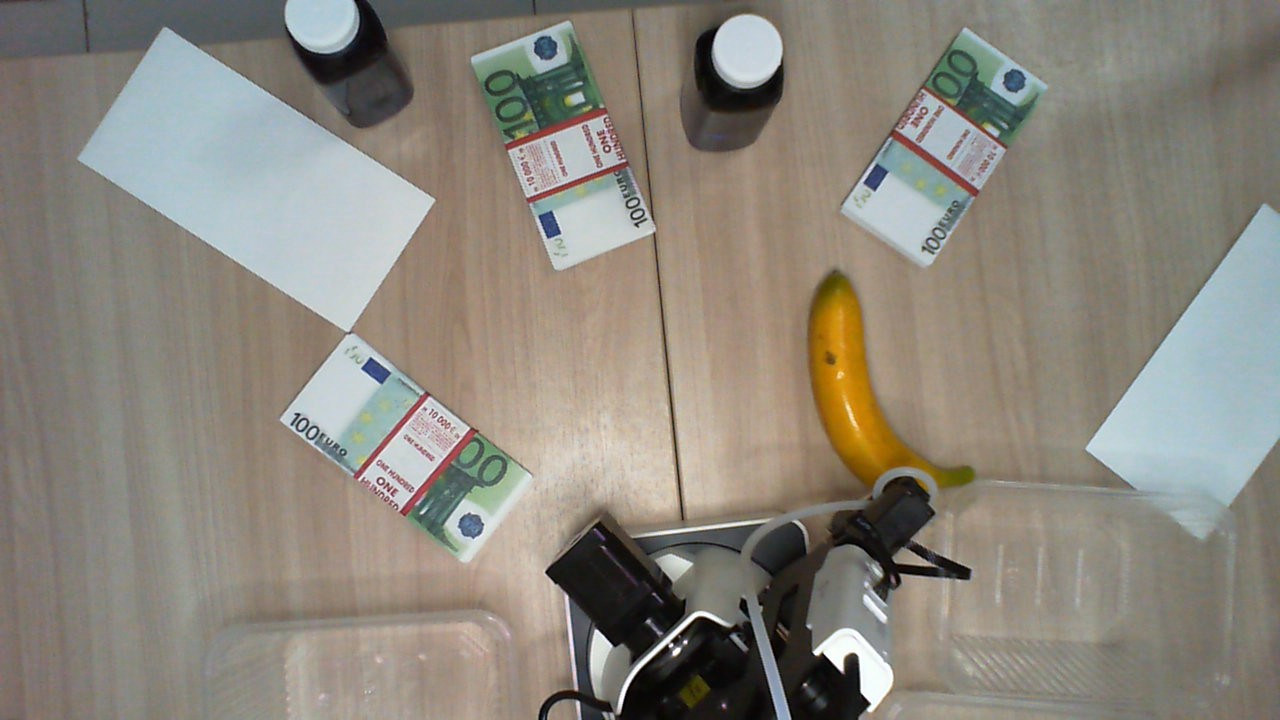banana: (808, 270, 973, 505)
bottle: (696, 13, 785, 113), (281, 1, 383, 81)
convert: (78, 27, 437, 335), (1085, 203, 1280, 545)
money: (278, 332, 535, 563), (842, 25, 1048, 270), (471, 20, 657, 272)
